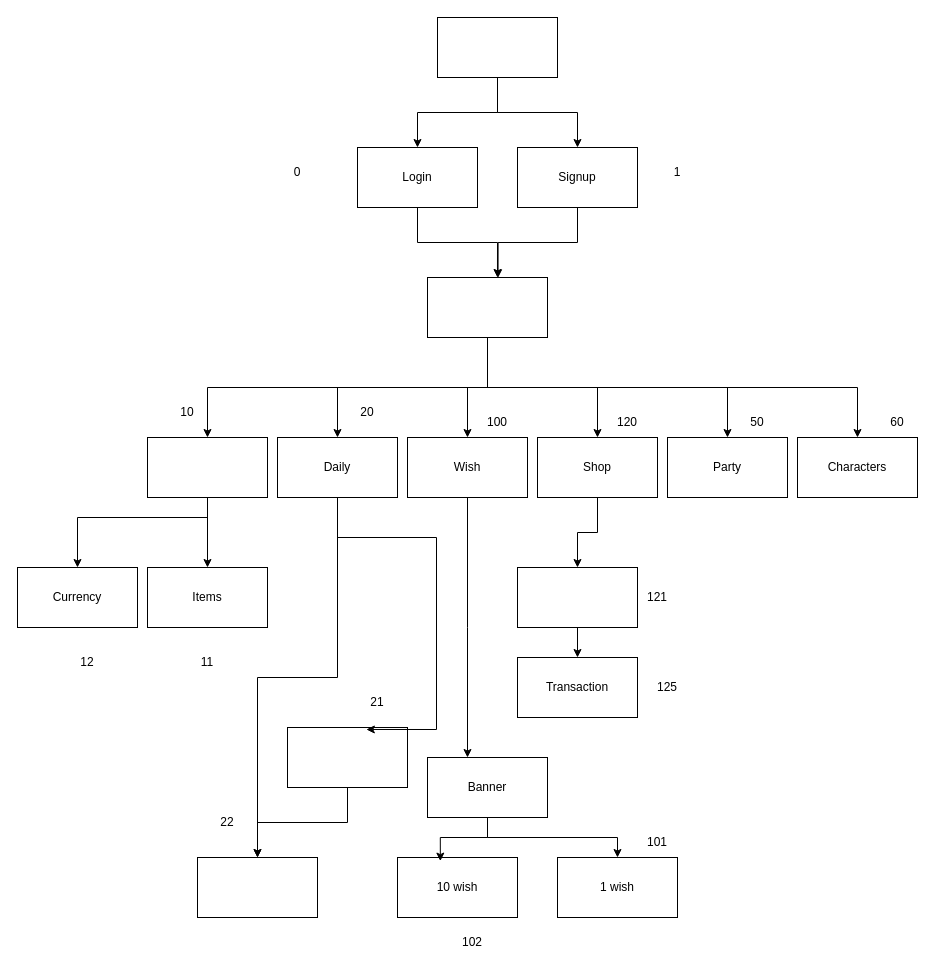
This 945x975 diagram has some shape labels left out. The centre of each missing label's shape, as x and y in pixels:
"Bag" goes at point (207, 467).
"Buffs" goes at point (347, 757).
"Bundles" goes at point (577, 597).
"Go to battle" goes at point (257, 887).
"Menu" goes at point (487, 307).
"Start" goes at point (497, 47).
